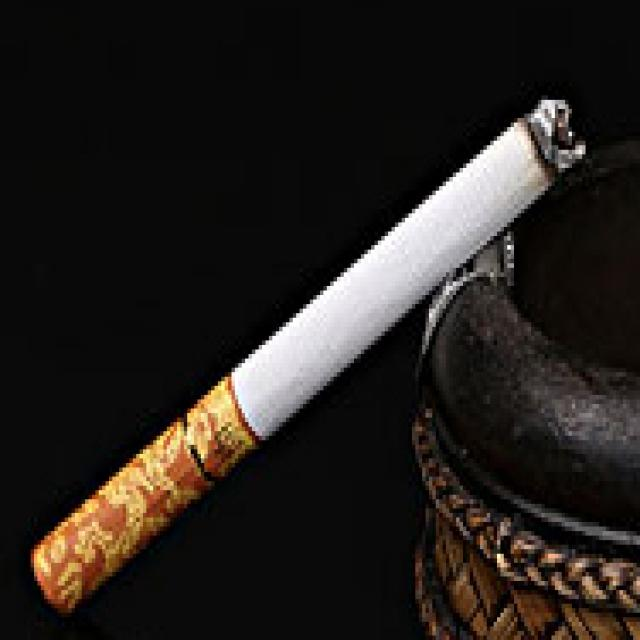smoking: (31, 97, 584, 611)
